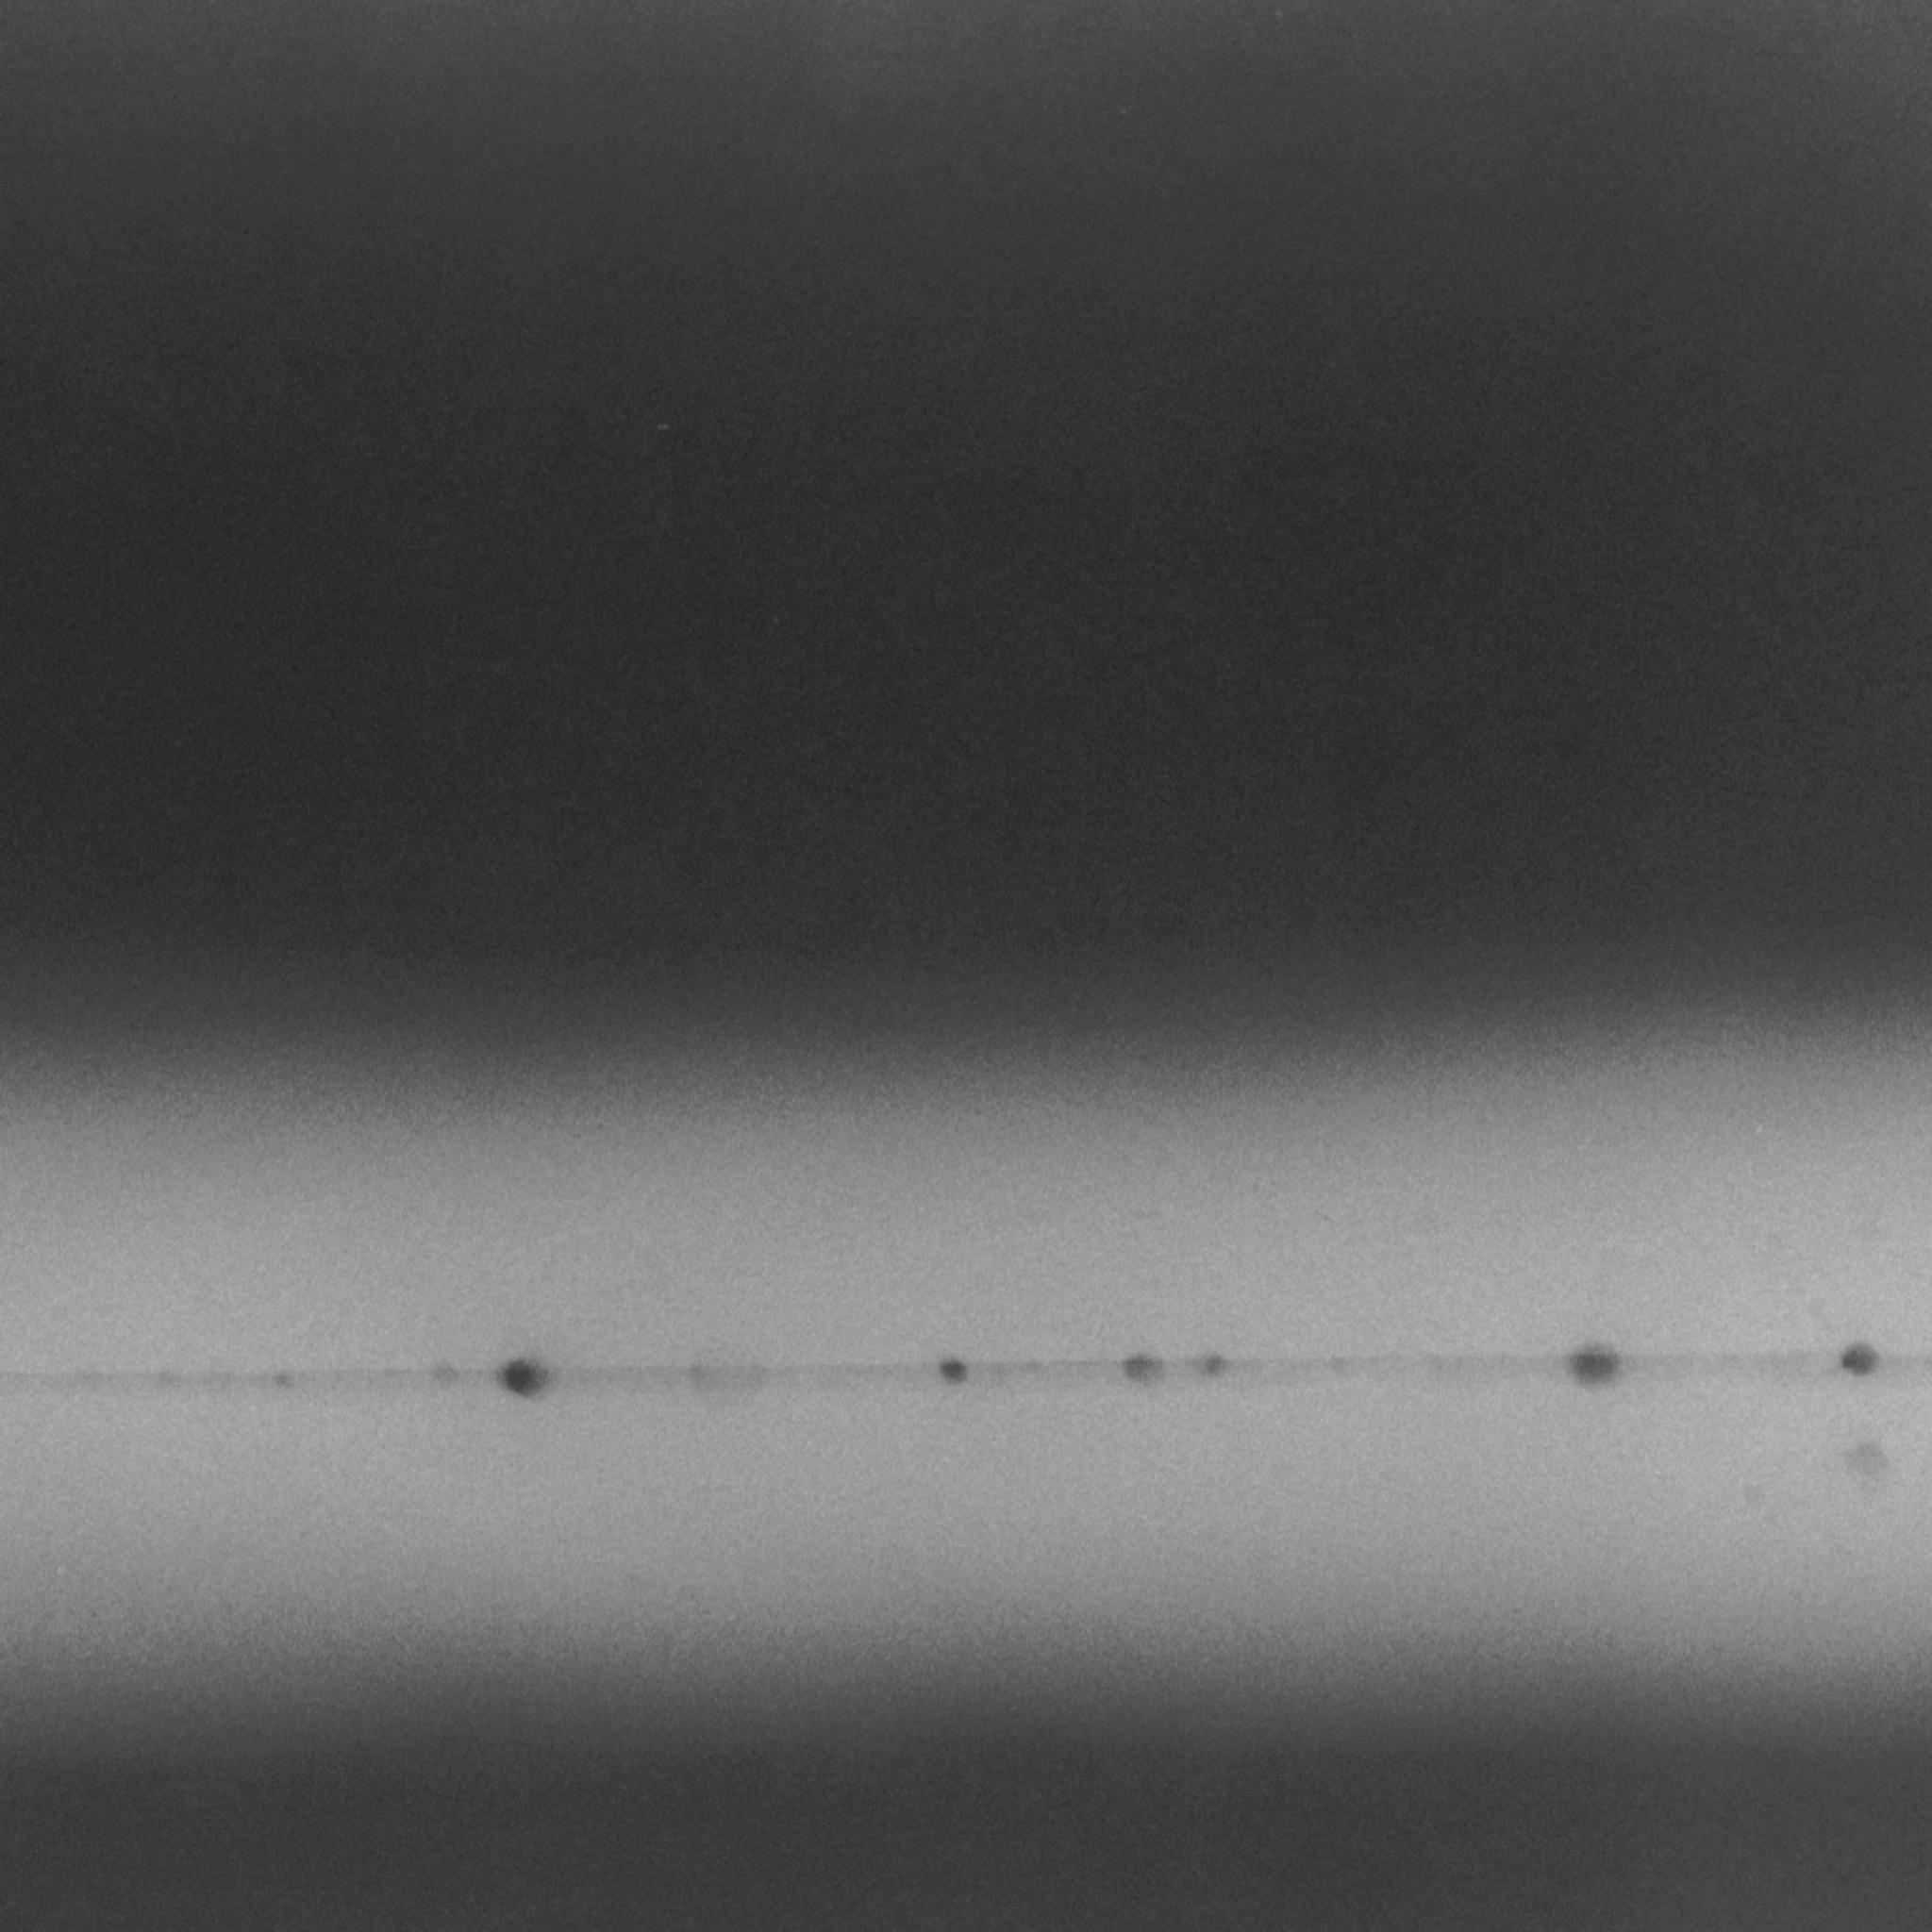FP: (0, 1253, 1932, 1488)
